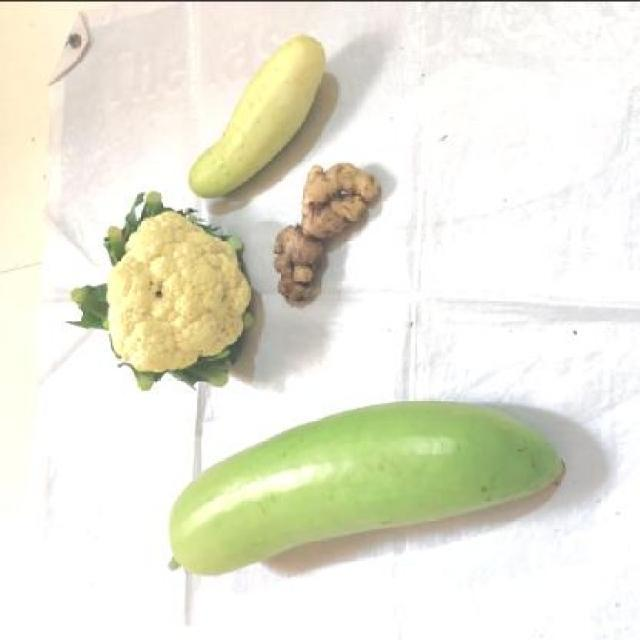Calabash: (142, 394, 576, 594)
Cauliflower: (80, 190, 256, 418)
Ginger: (260, 158, 396, 312)
cucumber: (189, 24, 334, 198)
